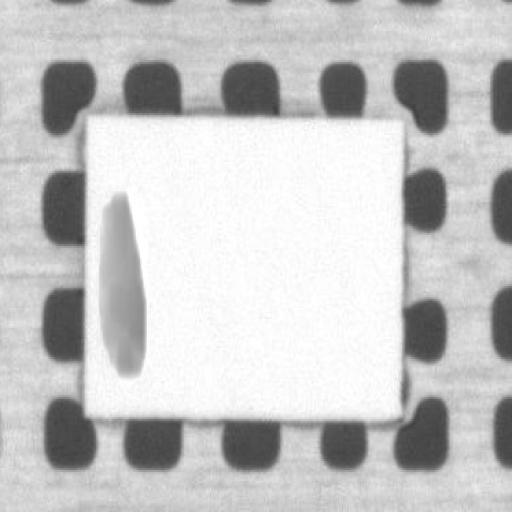DIE_INK: (96, 184, 146, 375)
